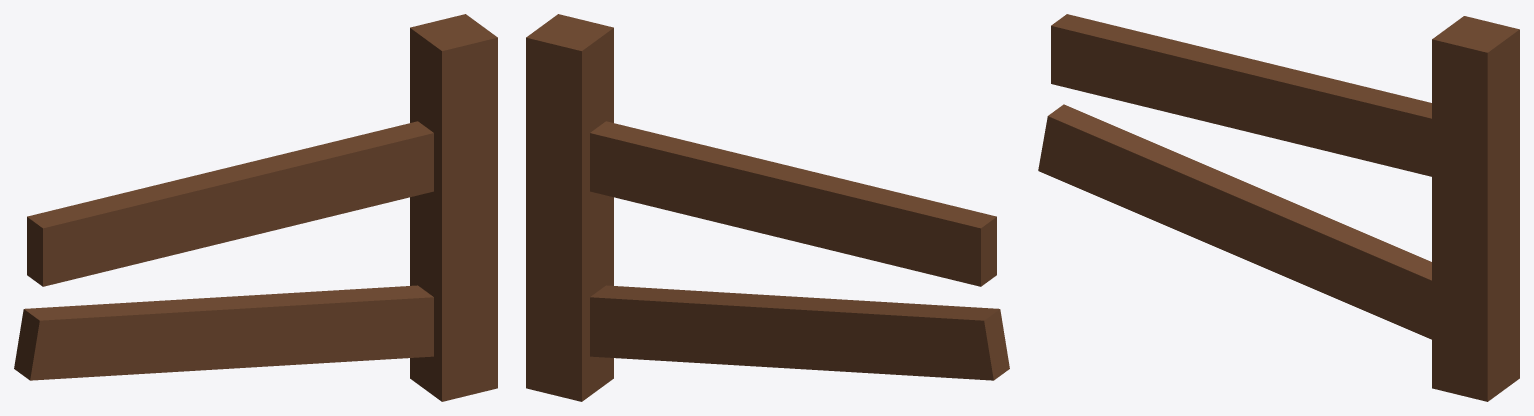
Rendered from obstacles_fance_8.fbx.
3 renders of one model, left to right at view 1: azimuth 30°, elevation 25°; view 2: azimuth 150°, elevation 25°; view 3: azimuth 330°, elevation 25°, orthographic.
Parts seen in each view (by area): view 1: Cube.001; view 2: Cube.001; view 3: Cube.001.
Boxes of the visible parts, <box> form: Cube.001: <box>14,14,497,401</box>; Cube.001: <box>526,14,1009,401</box>; Cube.001: <box>1038,14,1519,401</box>.
Bounding box in the file's own units: 412 × 300 × 50.
